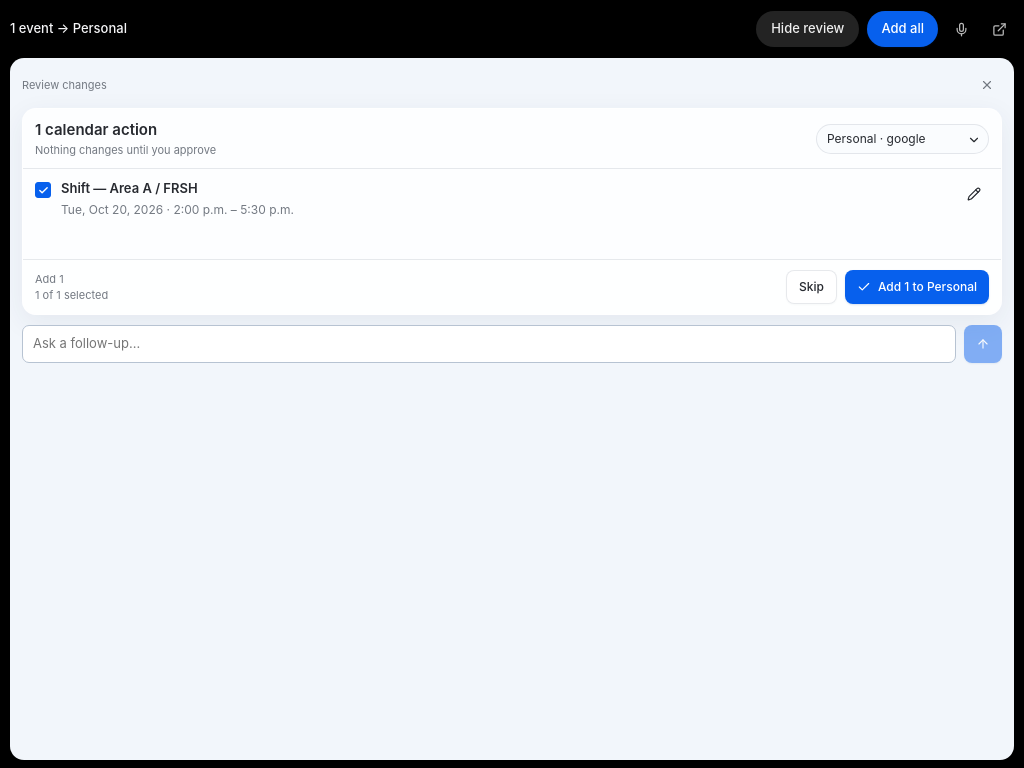
Scenario: closes the editor with Escape while preserving the review and focus
This screenshot has width=1024, height=768.
Expected: the button "Hide review" is shown, [756,11,859,47]
Click the button named "Edit Shift — Area A / FRSH": click(974, 194) [959,179,989,209]
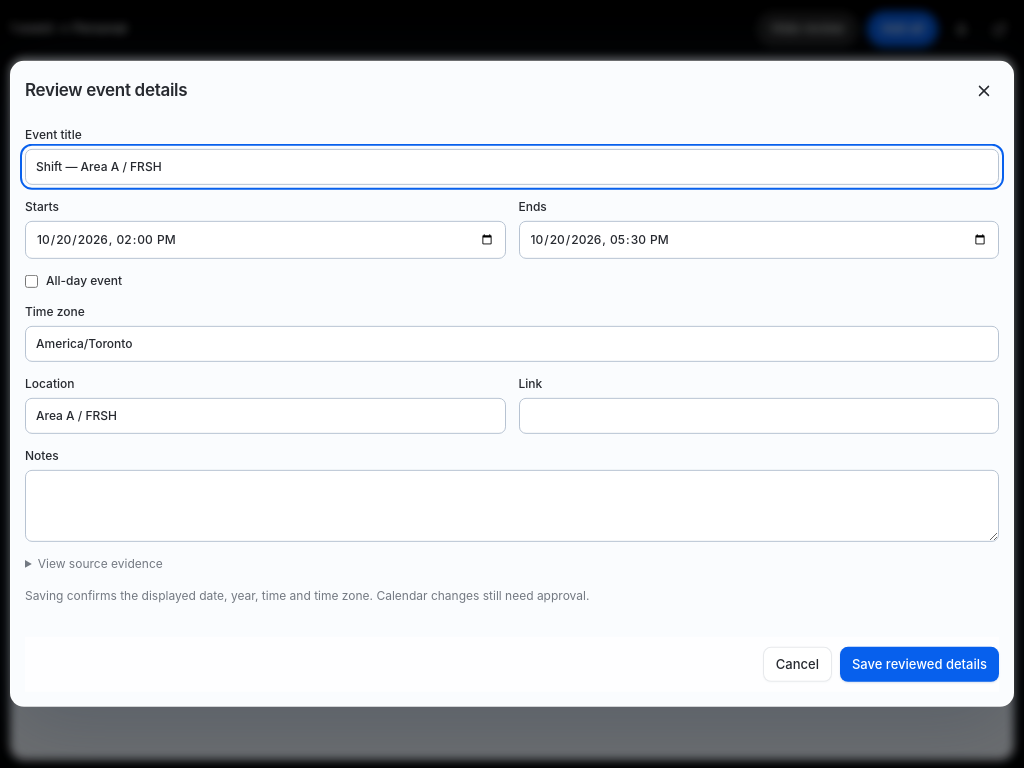
Now the dialog is shown
Press Escape
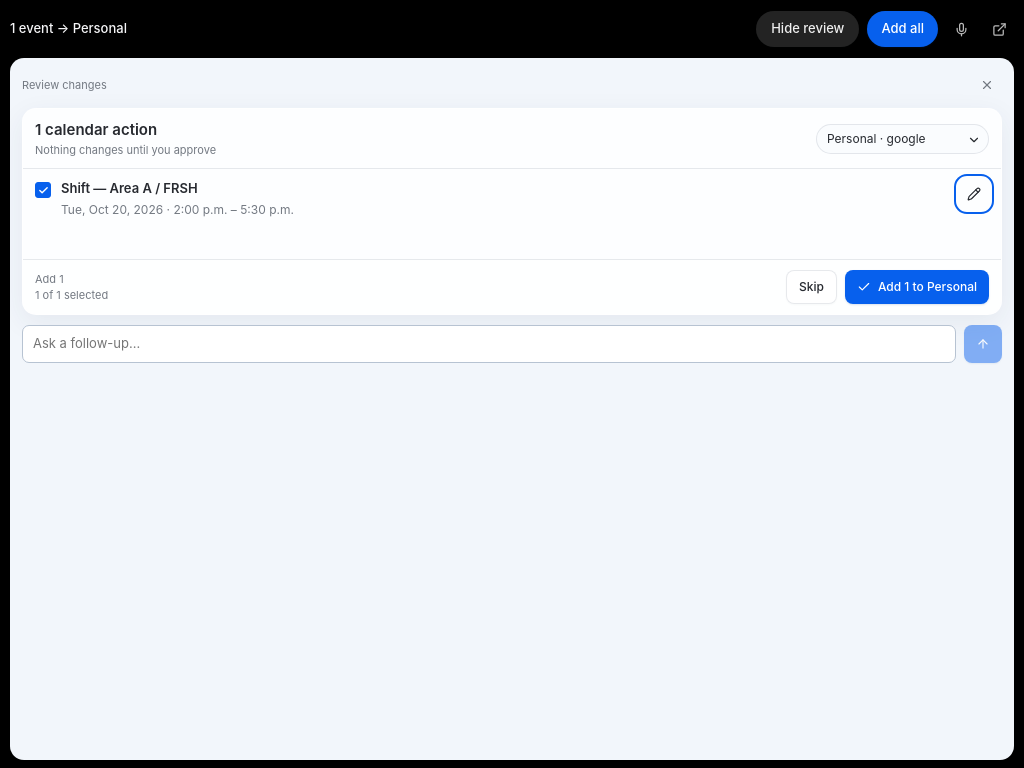
Expected: the button "Hide review" is shown, [756,11,859,47]
Now the dialog is gone
